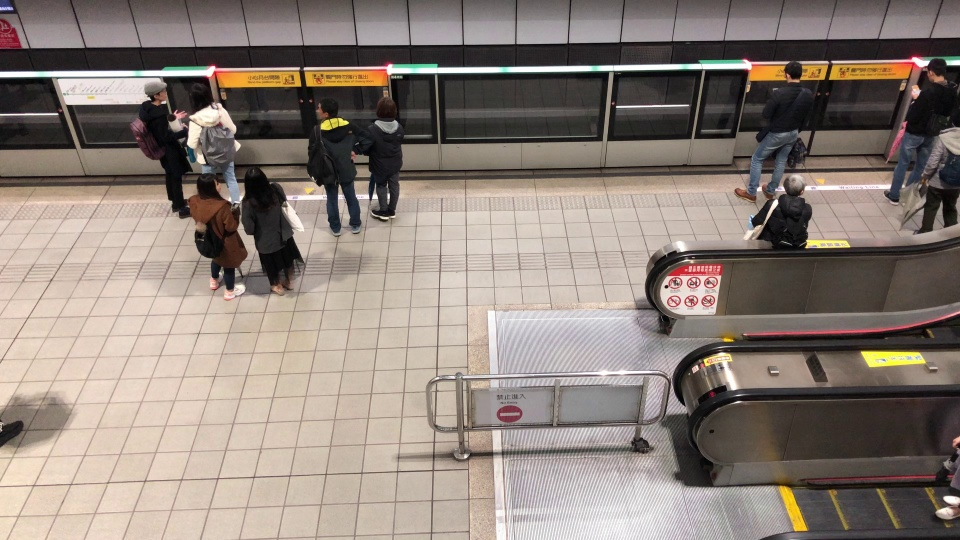person_head: (780, 175, 809, 204), (194, 173, 222, 202), (243, 168, 270, 197), (374, 96, 399, 123), (142, 81, 169, 105), (189, 84, 214, 109), (315, 97, 339, 121), (925, 59, 948, 83), (782, 61, 803, 85), (946, 111, 960, 128)
person_vbox: (878, 58, 960, 206), (732, 61, 814, 202), (128, 81, 195, 220), (240, 166, 307, 296), (183, 172, 250, 300), (302, 97, 364, 234), (899, 110, 960, 237), (184, 84, 241, 213), (353, 96, 407, 222), (740, 174, 813, 251)
